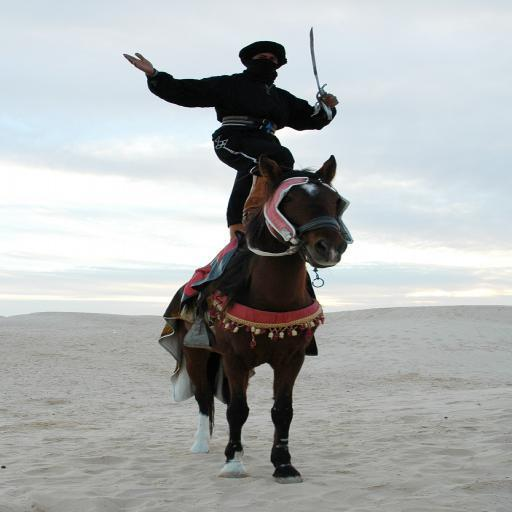horse: (176, 154, 351, 486)
